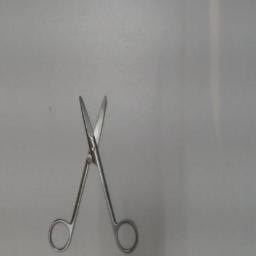Curved Mayo Scissors: (44, 92, 144, 254)
